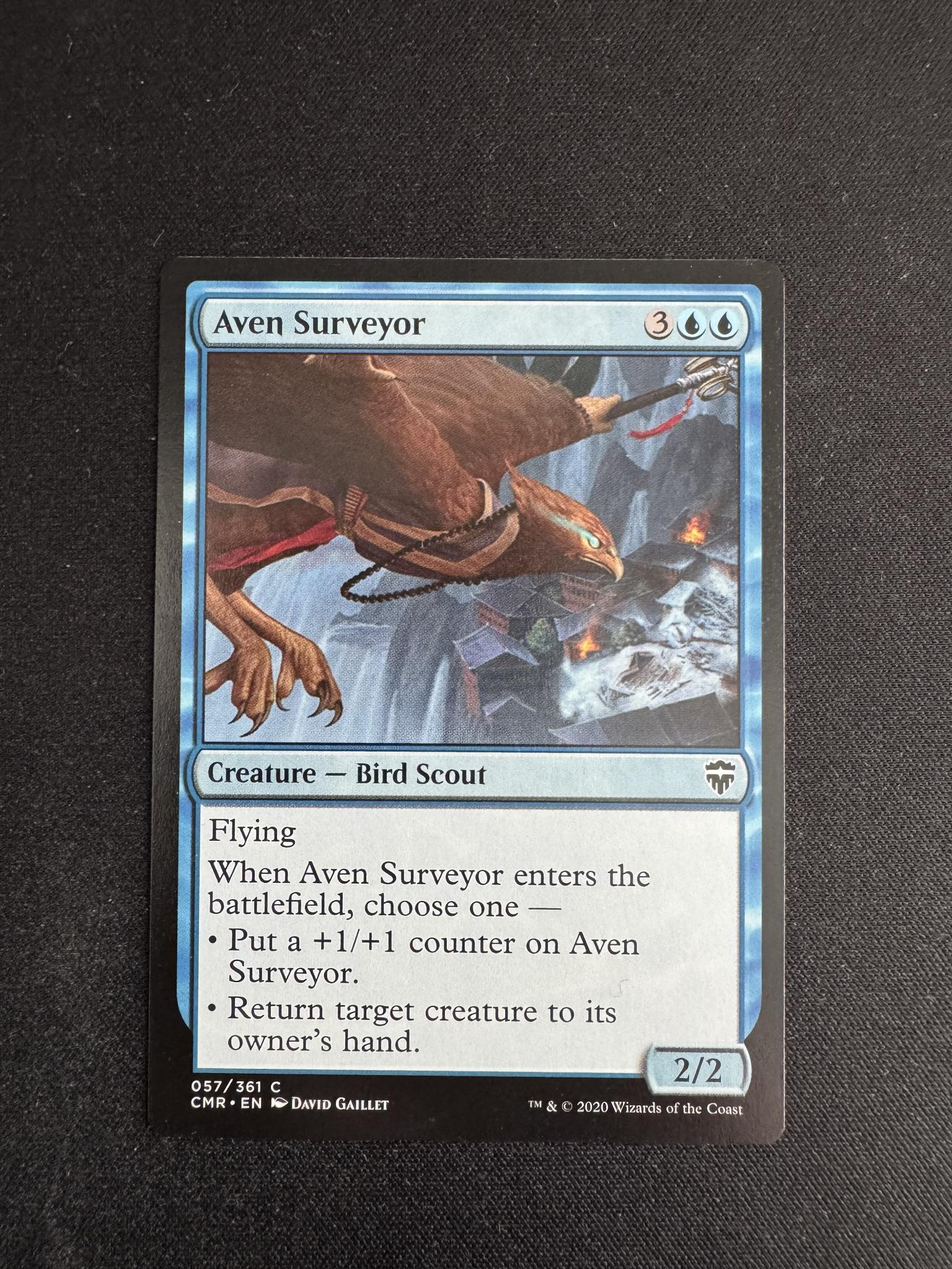card-2UtV: (148, 256, 785, 1144)
